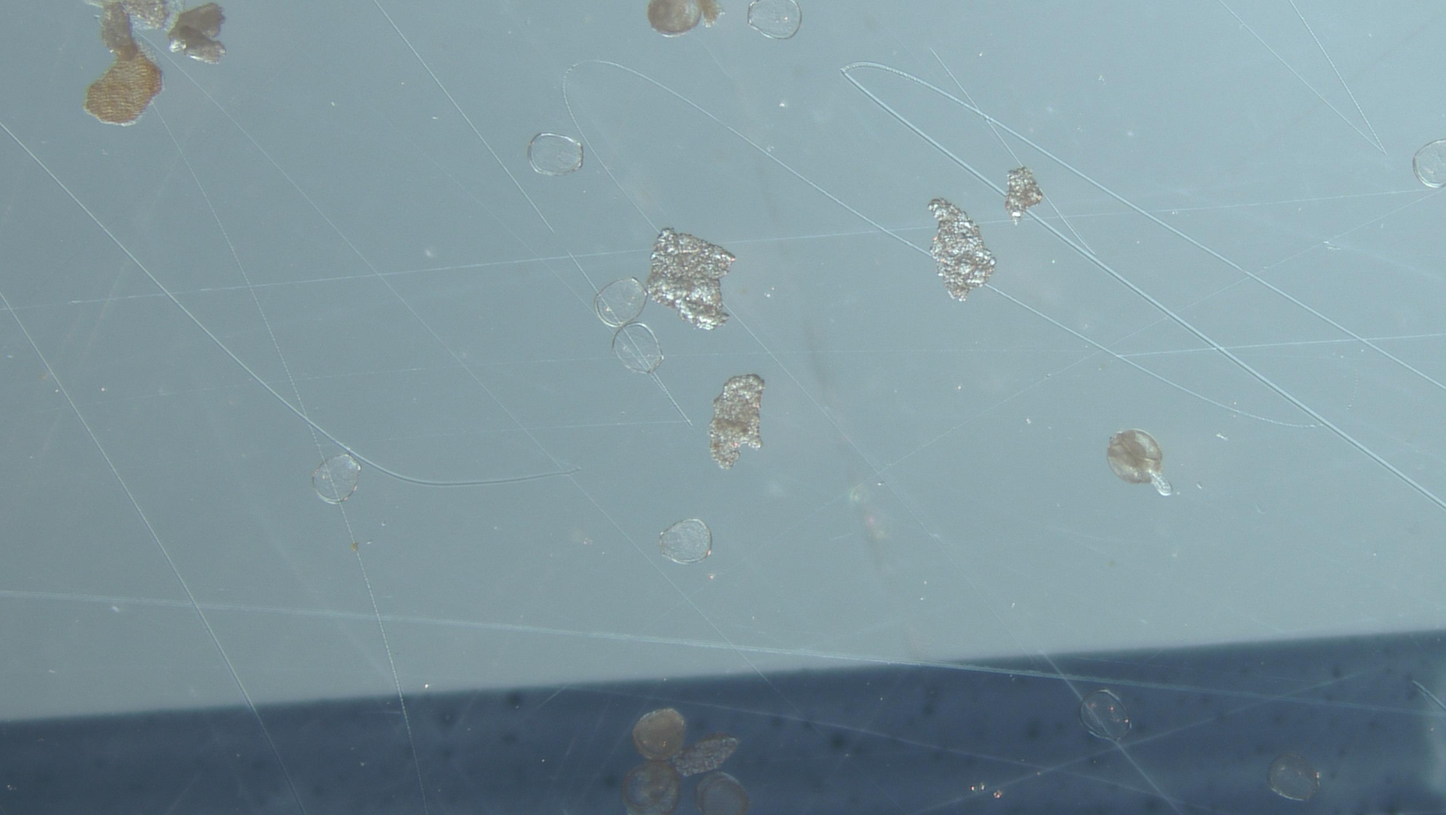dead: (1079, 689, 1131, 741), (594, 278, 647, 328), (613, 322, 662, 373), (528, 132, 584, 176), (313, 454, 361, 504), (659, 519, 711, 564), (748, 0, 801, 39)
live: (1107, 430, 1171, 496), (648, 0, 722, 36)
